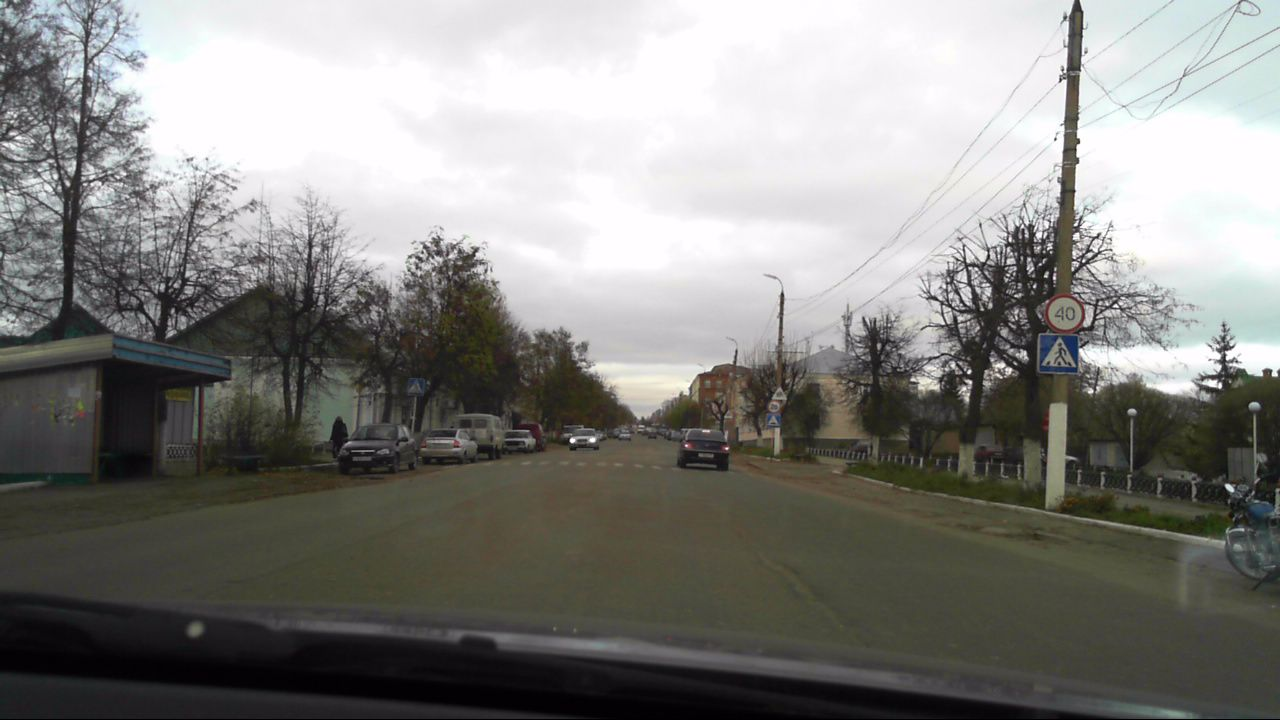speed_warning_40: (1042, 293, 1085, 333)
